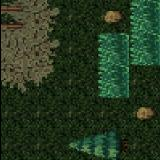Interaction: (0, 0, 29, 35)
Obstacle: (98, 127, 130, 160), (97, 0, 128, 32), (129, 97, 160, 127)
Slow: (98, 32, 128, 98), (130, 0, 160, 65)
